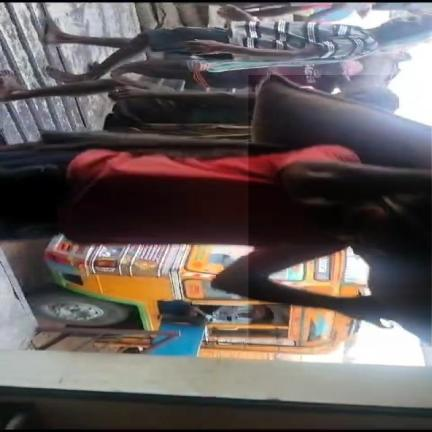Zone-Counting: (0, 75, 431, 341)
